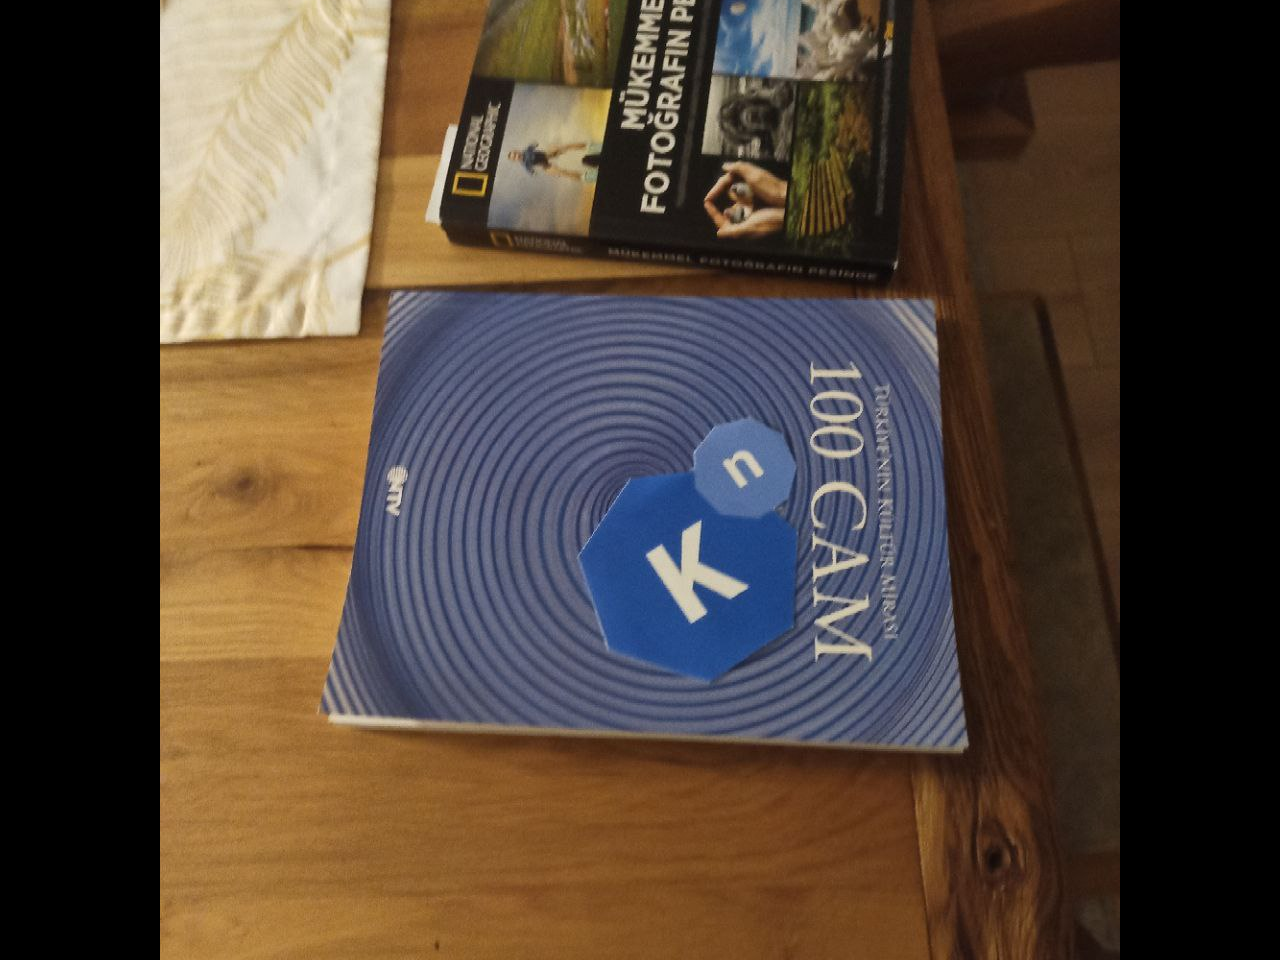knative: (577, 417, 797, 682)
